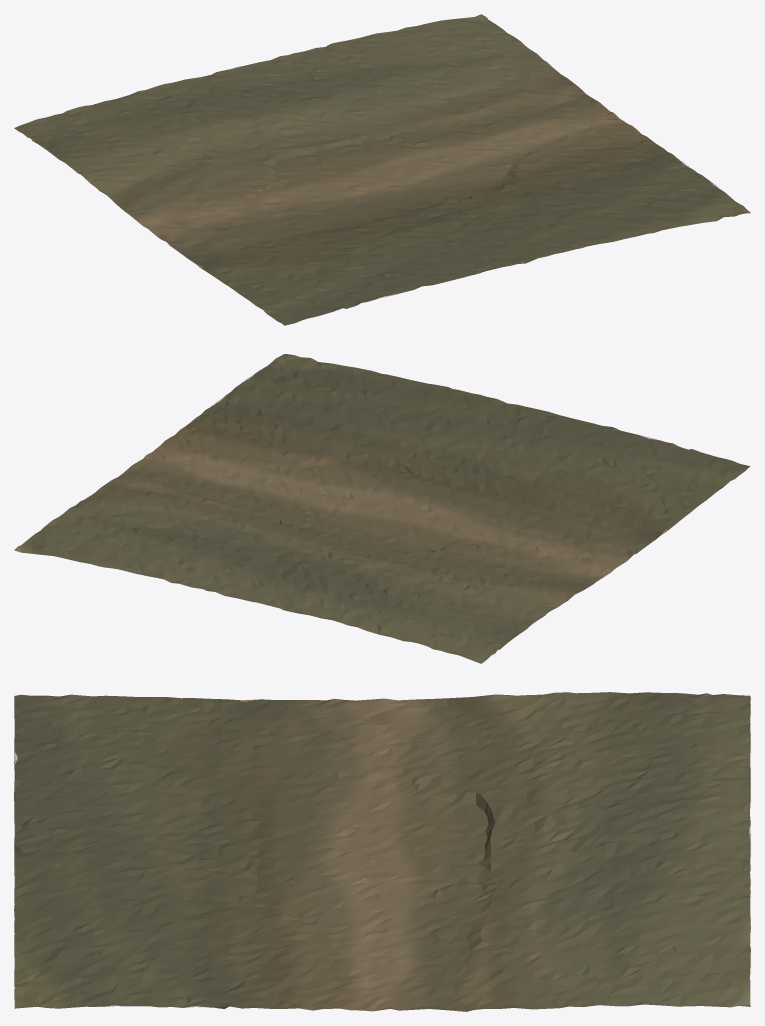
Rendered from terrain5.fbx.
3 renders of one model, top to bottom at view 1: azimuth 30°, elevation 25°; view 2: azimuth 150°, elevation 25°; view 3: azimuth 270°, elevation 25°, orthographic. The views are drawn at different scales.
Visible parts, largest first — view 1: Terrain5.001; view 2: Terrain5.001; view 3: Terrain5.001.
Boxes of the visible parts, x1,y1,x2,y2 form: Terrain5.001: (14,14,750,325); Terrain5.001: (14,354,750,663); Terrain5.001: (14,692,750,1011).
Size of the model in its own units: 10014 by 298 by 10013.
